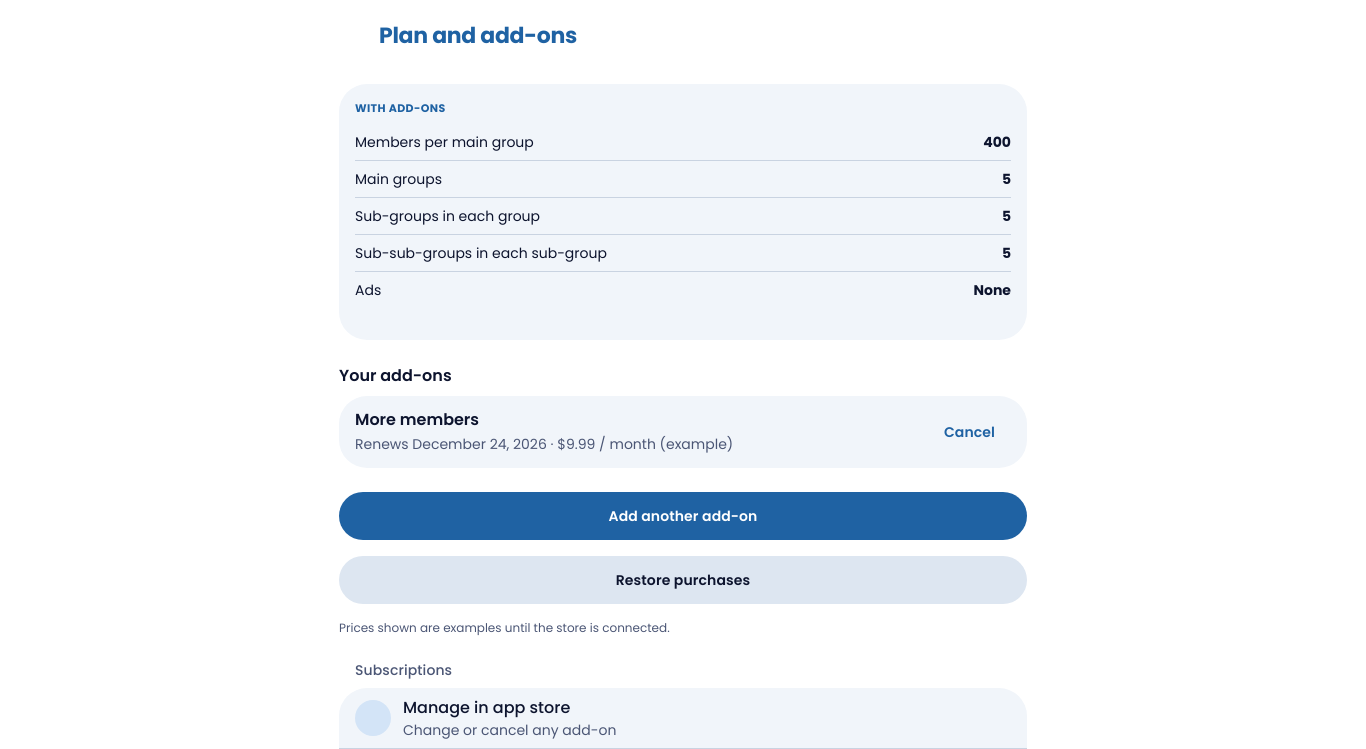
it: plan screen › shows the free limits, then add-ons after buying, and cancel
The image size is (1366, 749).
Expected: the text "400" is shown, [983, 132, 1011, 152]
Expected: the text "Renews December 24, 2026 · $9.99 / month (example)" is shown, [355, 434, 733, 454]
Click the button "Cancel": x=969, y=432 [928, 408, 1011, 456]
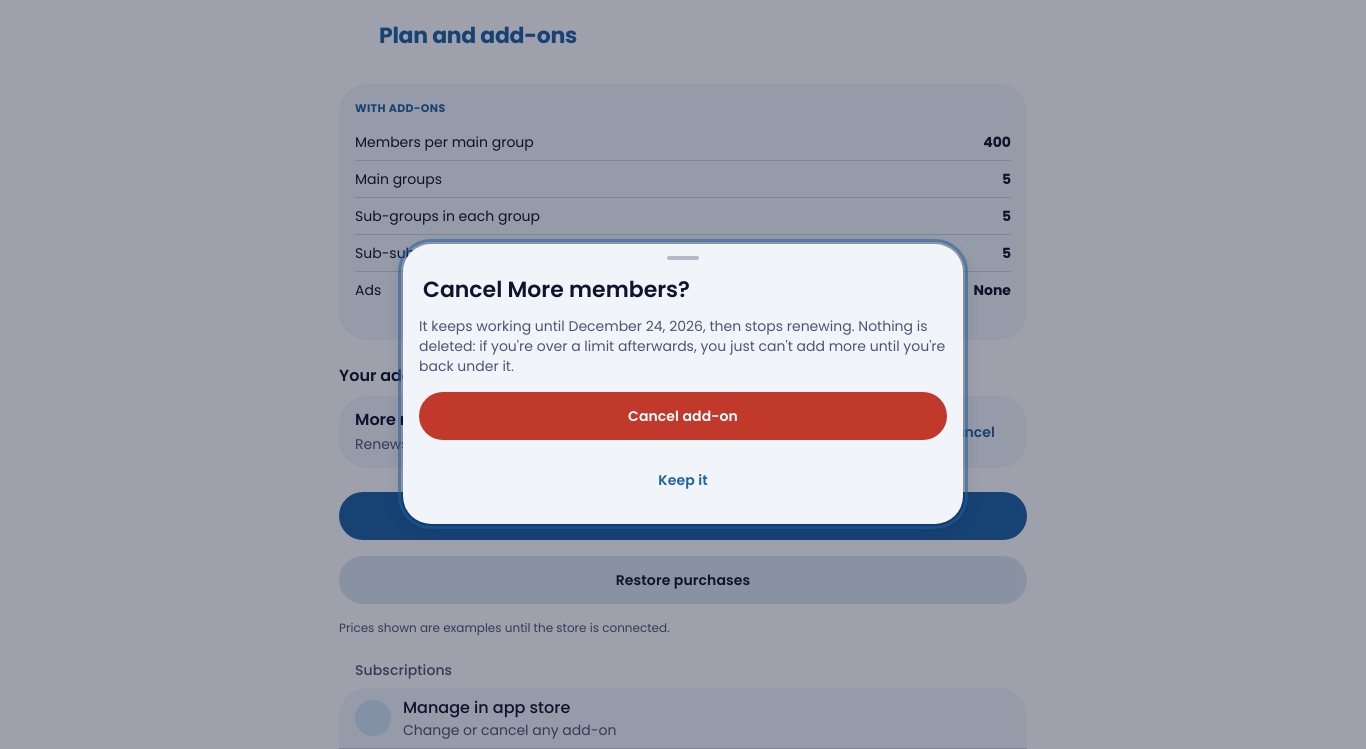
Click the button "Cancel add-on": x=683, y=416 [419, 392, 947, 440]
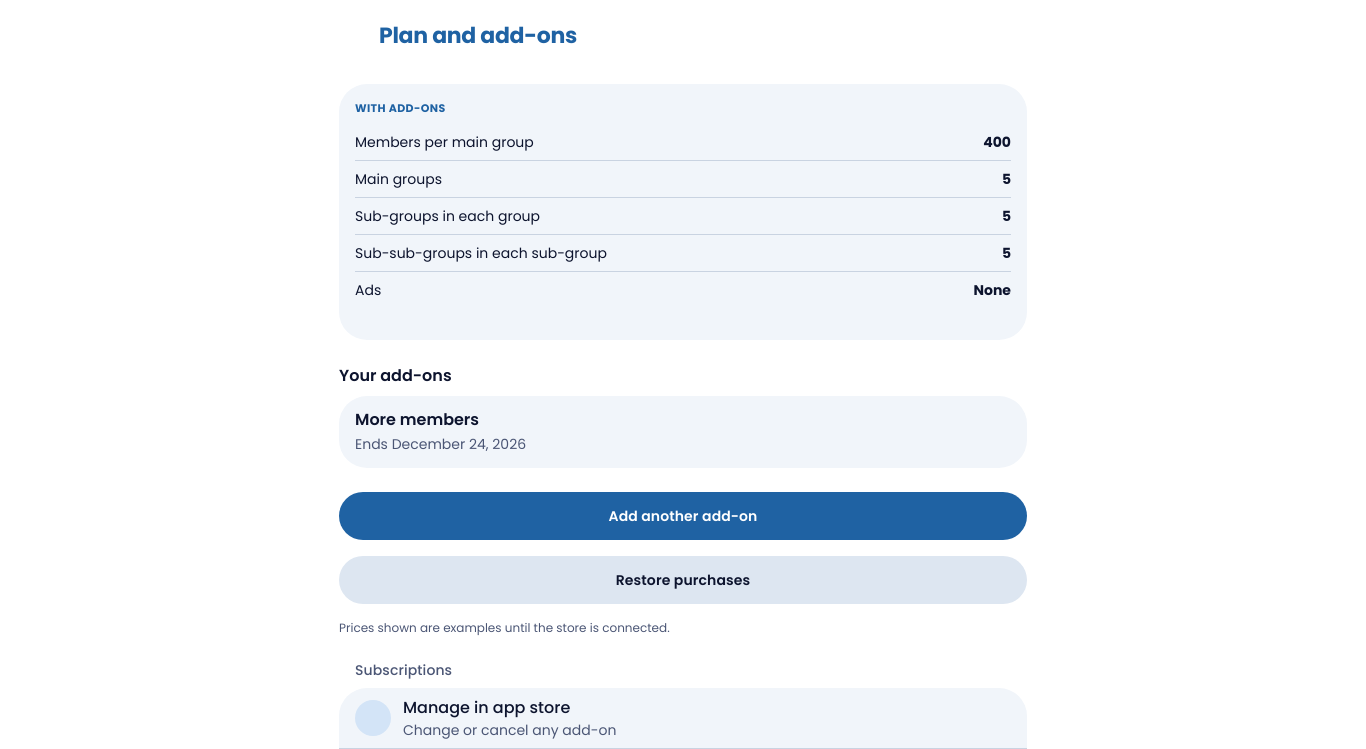
Result: the text "Ends December 24, 2026" is shown at [355, 434, 526, 454]
